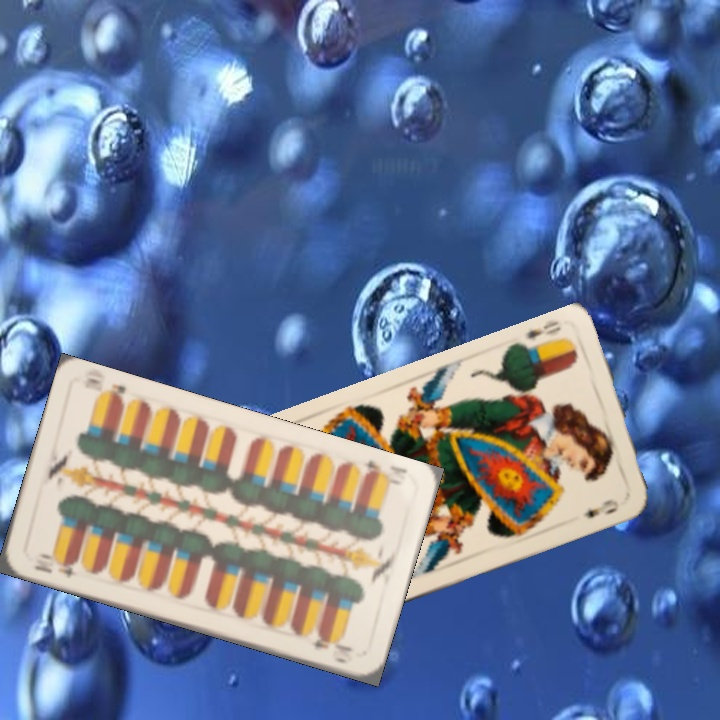E10: (359, 456, 410, 484), (29, 558, 82, 581)
EO: (523, 316, 564, 342)
